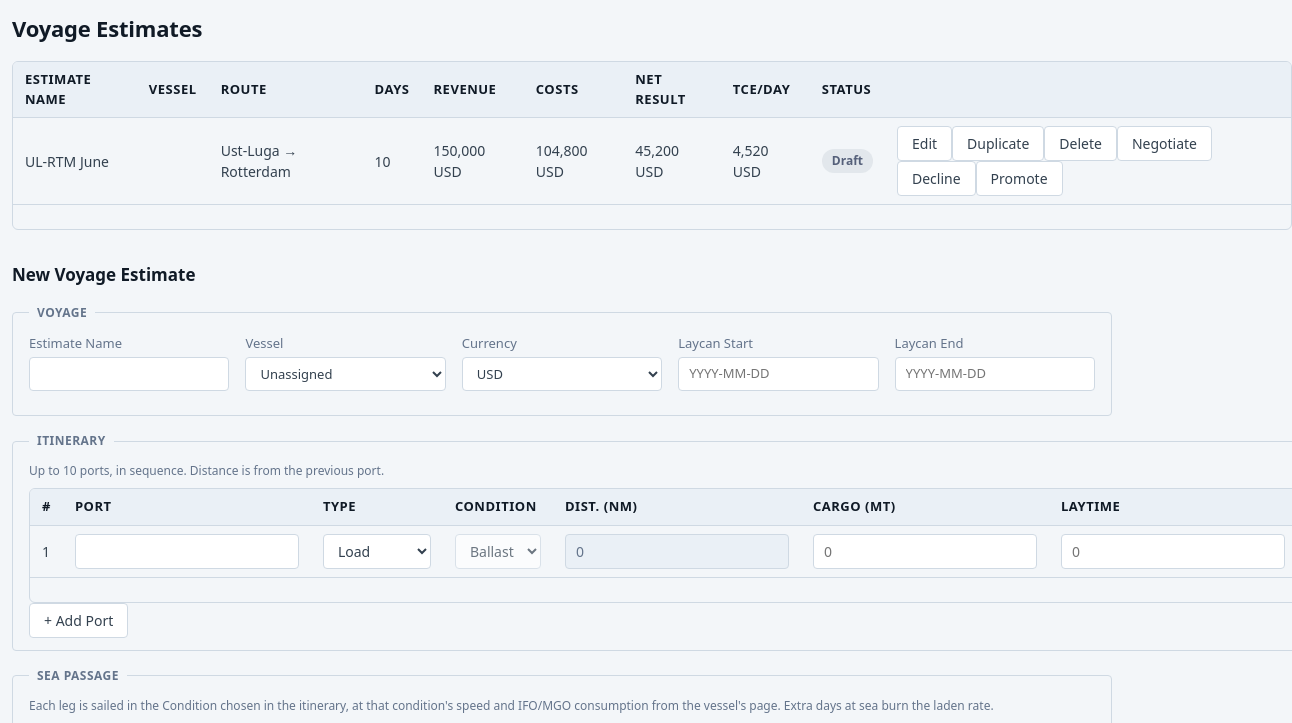
Test: VoyageEstimatesPage › lets the operator move an estimate into negotiation
The width and height of the screenshot is (1292, 723).
Expected: the text "UL-RTM June" is shown, [13,118,137,204]
Click the button "Negotiate" at point(1164, 144), box [1117,126,1212,161]
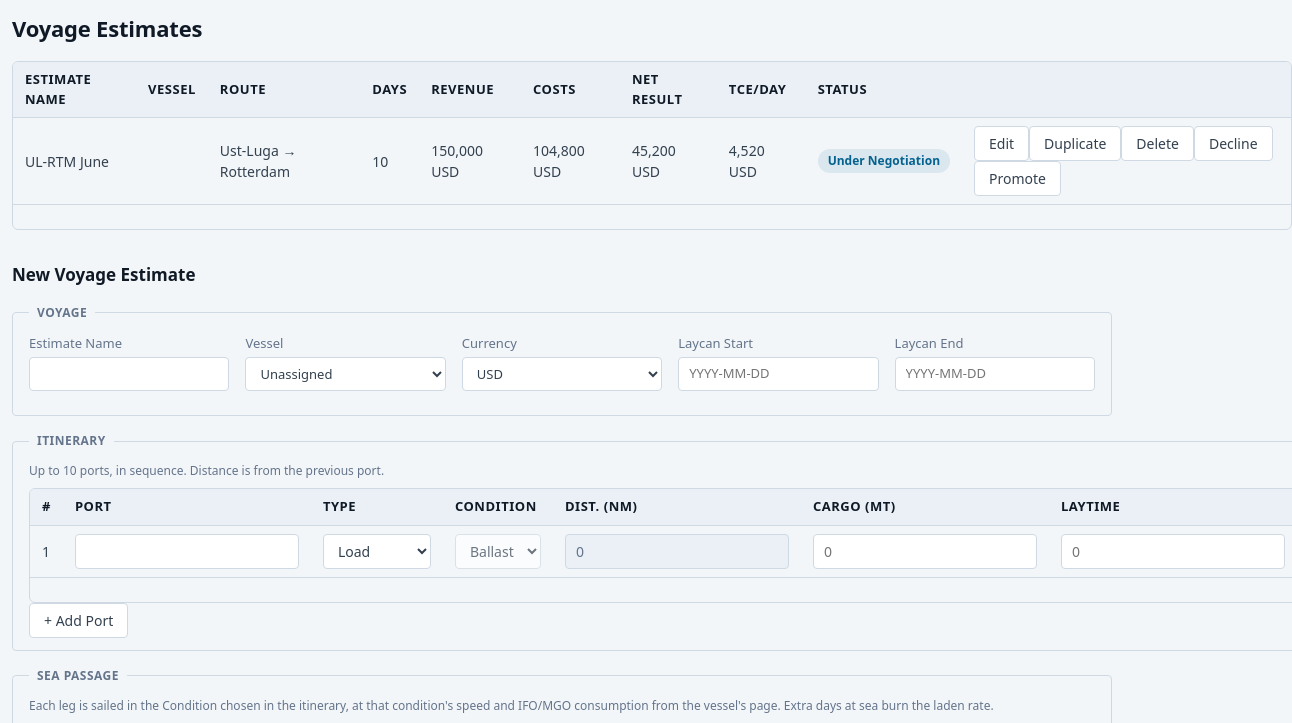
Result: the text "Under Negotiation" is shown at [818,149,950,173]
